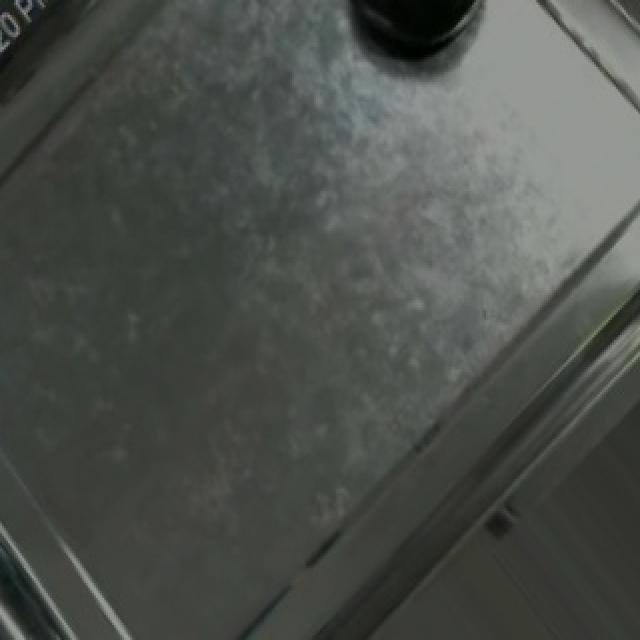Fruit: (334, 0, 500, 79)
